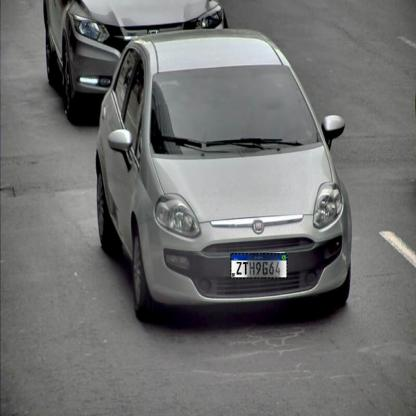PlacaM: (230, 253, 288, 279)
